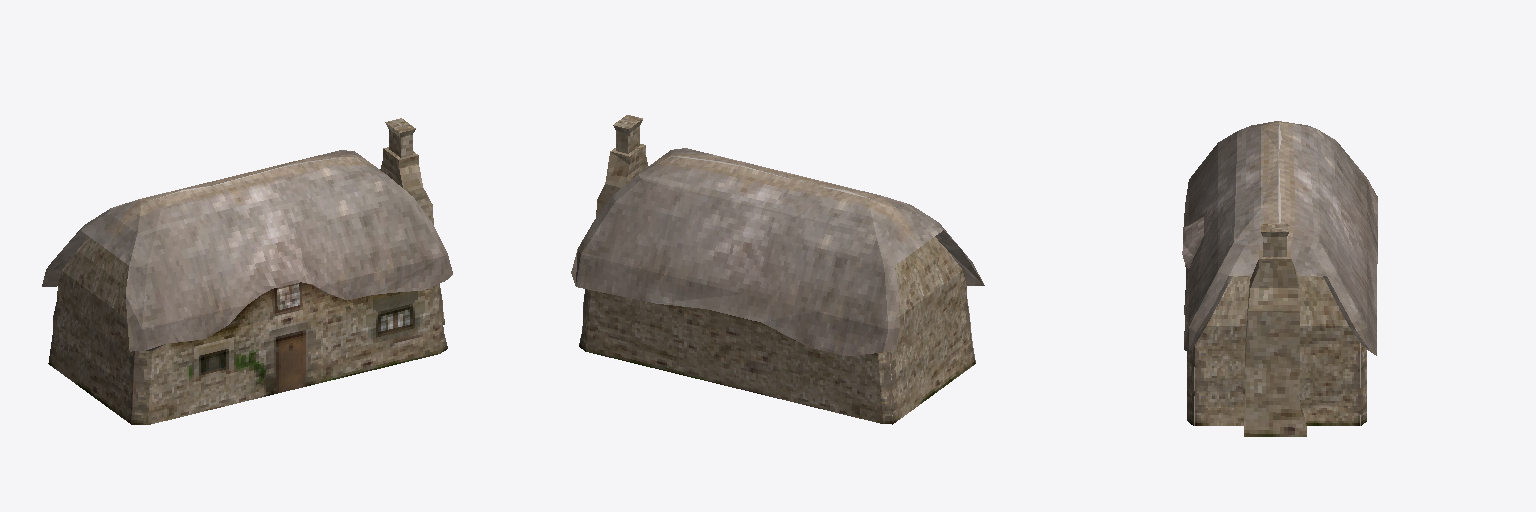
The picture shows the model from 3 angles: view 1: azimuth 30°, elevation 25°; view 2: azimuth 150°, elevation 25°; view 3: azimuth 270°, elevation 25°; orthographic projection.
Parts seen in each view (by area): view 1: _; view 2: _; view 3: _.
Part boxes in pixels (bbox=[...]): _: bbox=[42, 118, 452, 424]; _: bbox=[571, 115, 984, 424]; _: bbox=[1182, 121, 1377, 436].
Size of the model in its own units: 527 by 287 by 260.
1 materials, 1 textured.